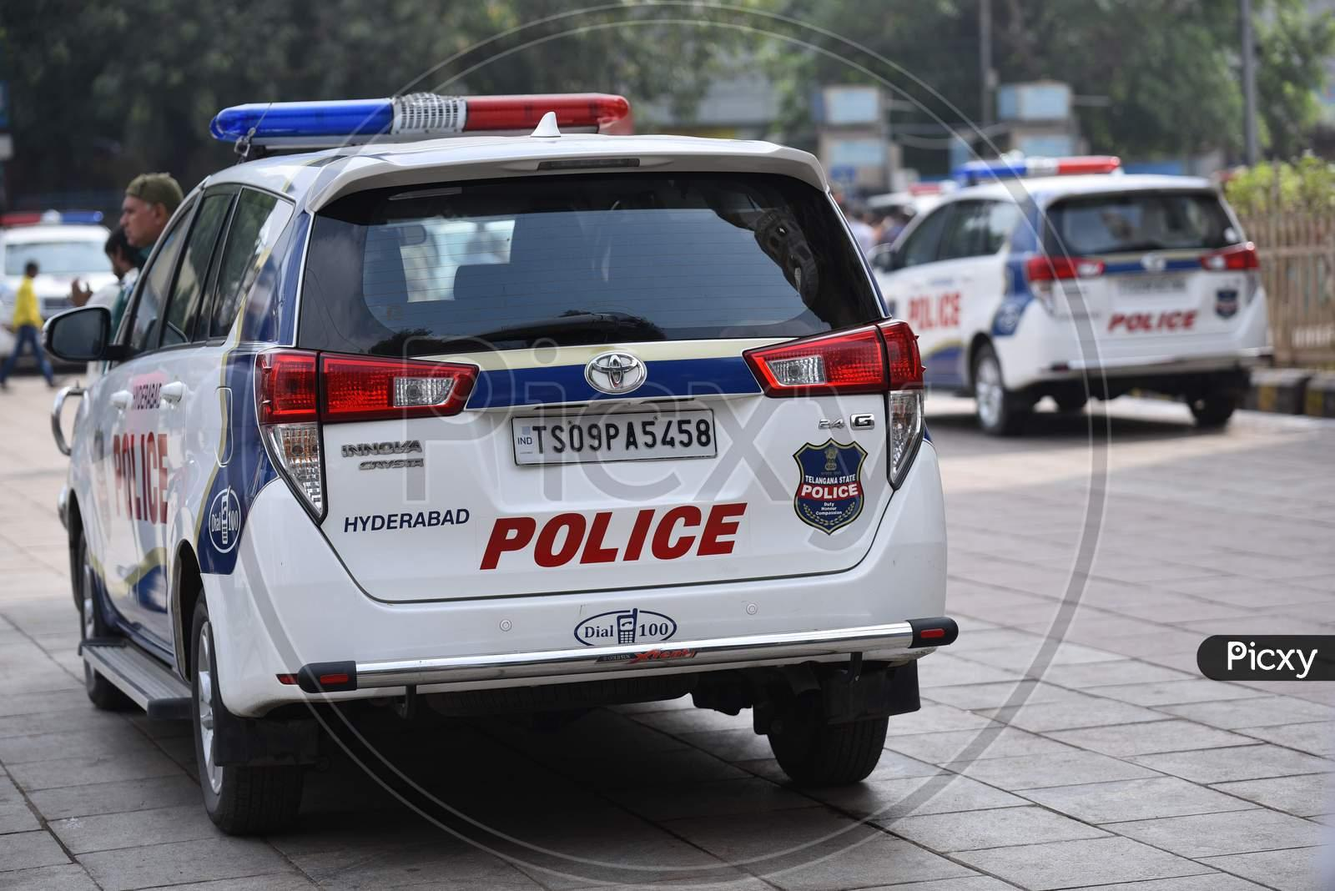Emergency-Vehicles: (23, 30, 1022, 885)
